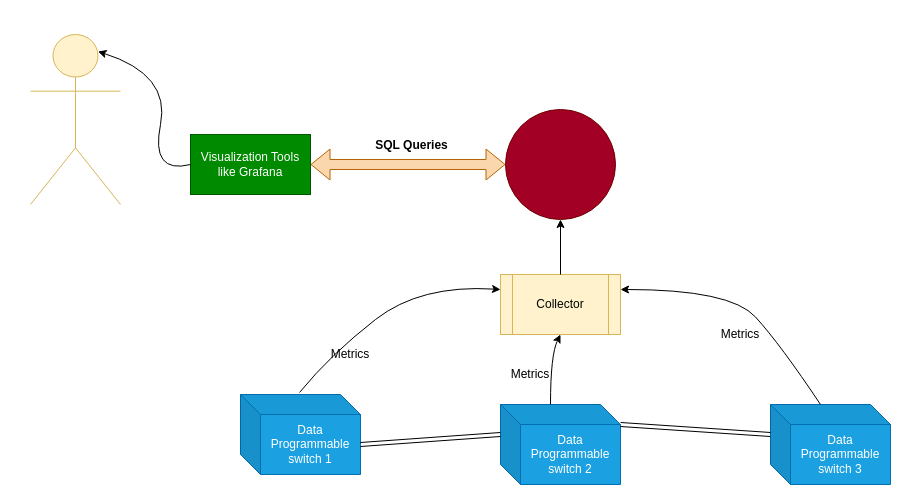
Some shapes in this 908 by 502 pixel diagram are drawn without their labels. The shapes that lost their labels are listed below. From the top down, each one's centre as x and y in pixels, then its label:
At (75,119): "Network Administrator".
At (560,164): "Relational Database".
